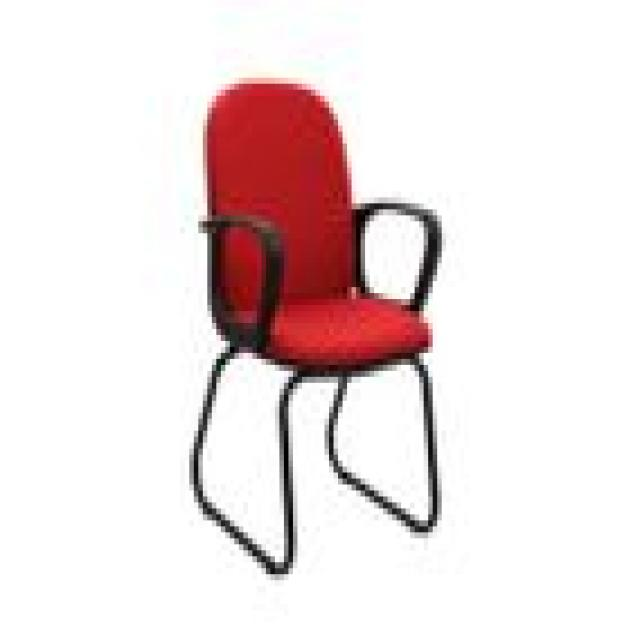others: (172, 54, 482, 574)
